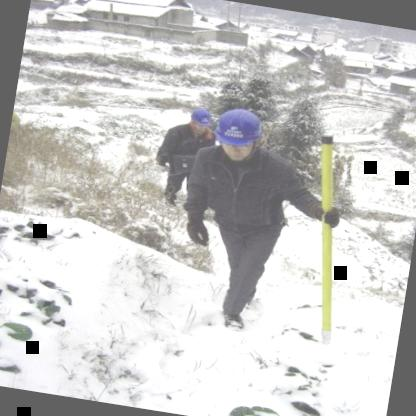helmet: (213, 107, 267, 165), (181, 103, 216, 137)
